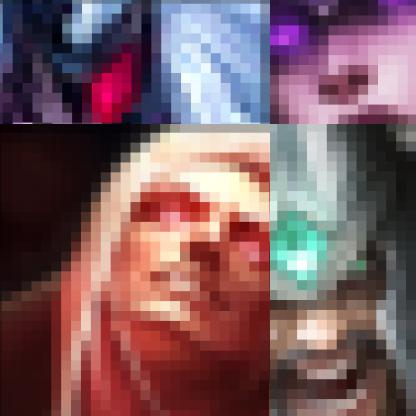Syndra: (270, 0, 415, 123)
Tryndamere: (270, 124, 415, 415)
Varus: (0, 0, 269, 123)
Vladimir: (0, 124, 269, 415)
